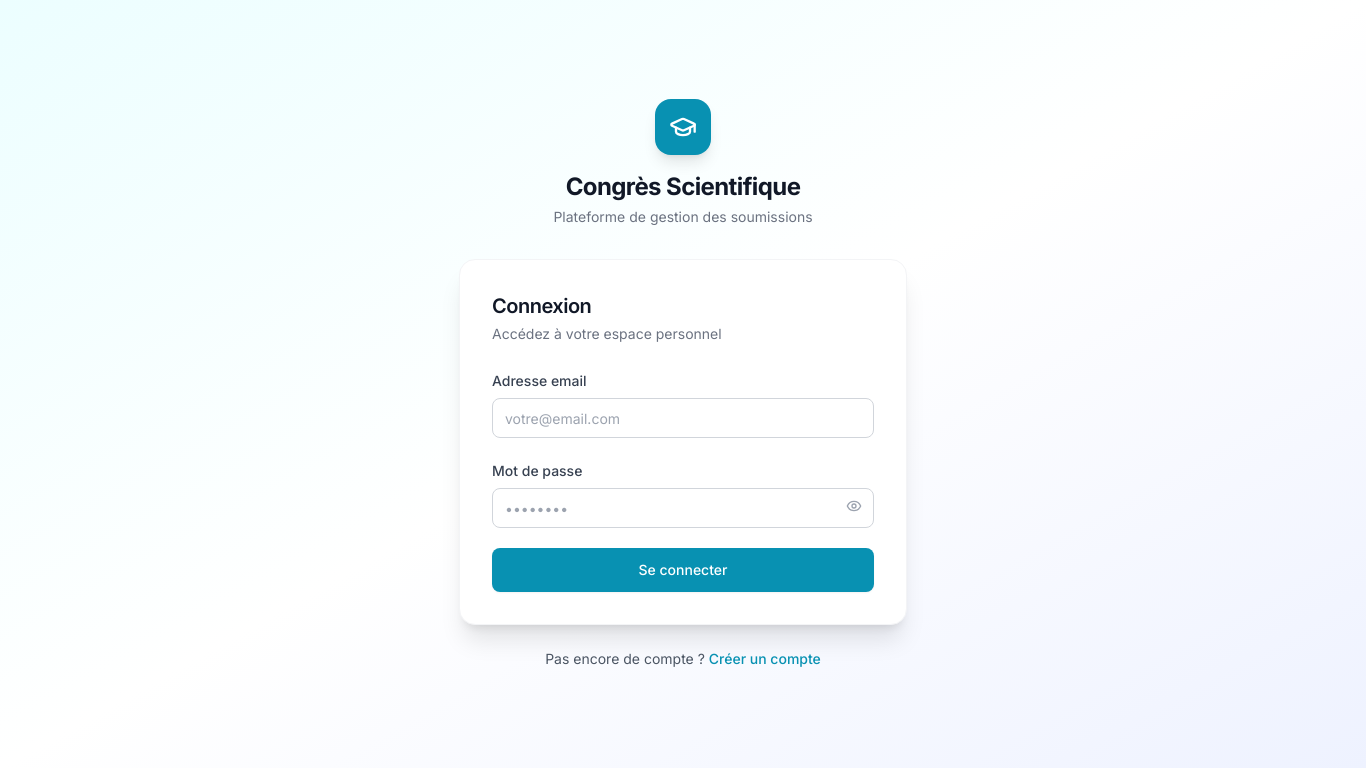
it: LoginPage › shows validation errors for empty fields
This screenshot has width=1366, height=768.
Click the button "Se connecter" at [683, 570], box 492,548 -> 874,592
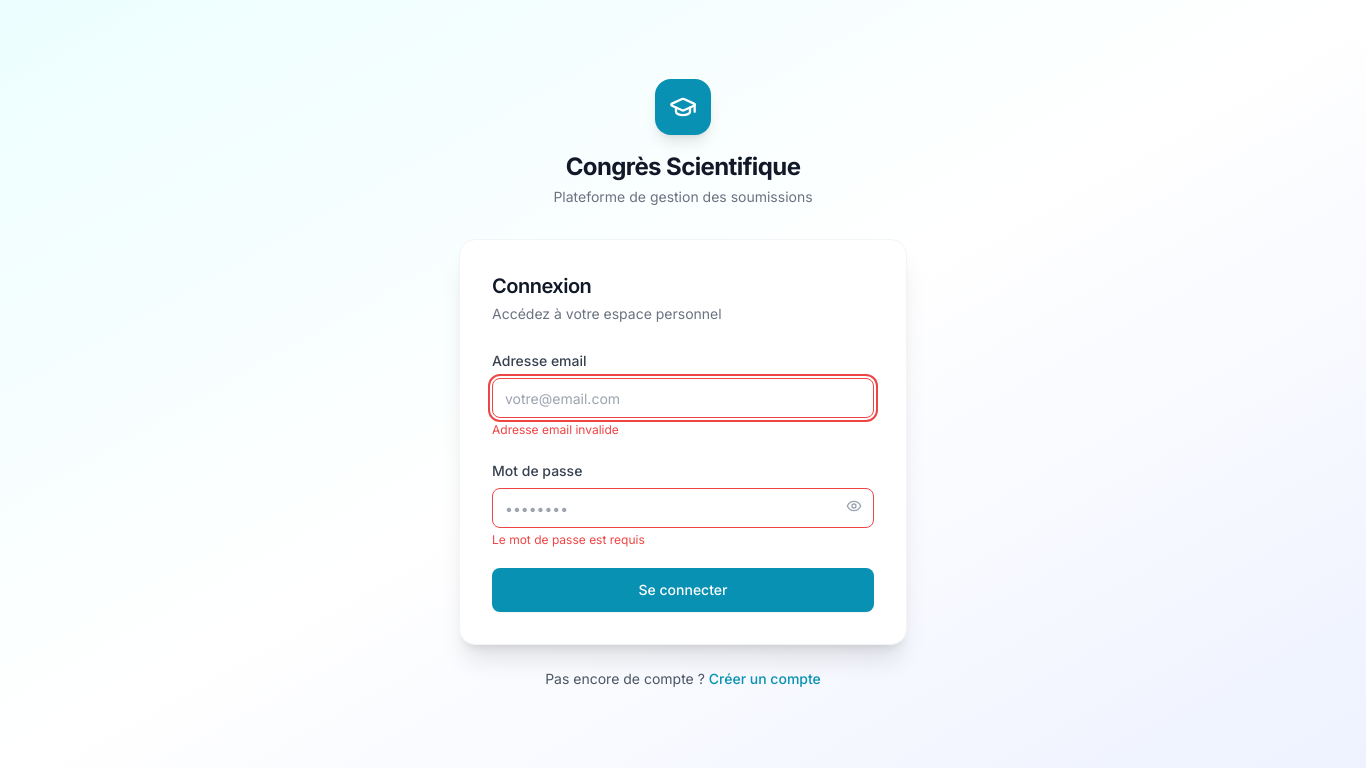
Result: the text "Adresse email invalide" is shown at 492,422 -> 619,437
Result: the text "Le mot de passe est requis" is shown at 492,532 -> 645,547
